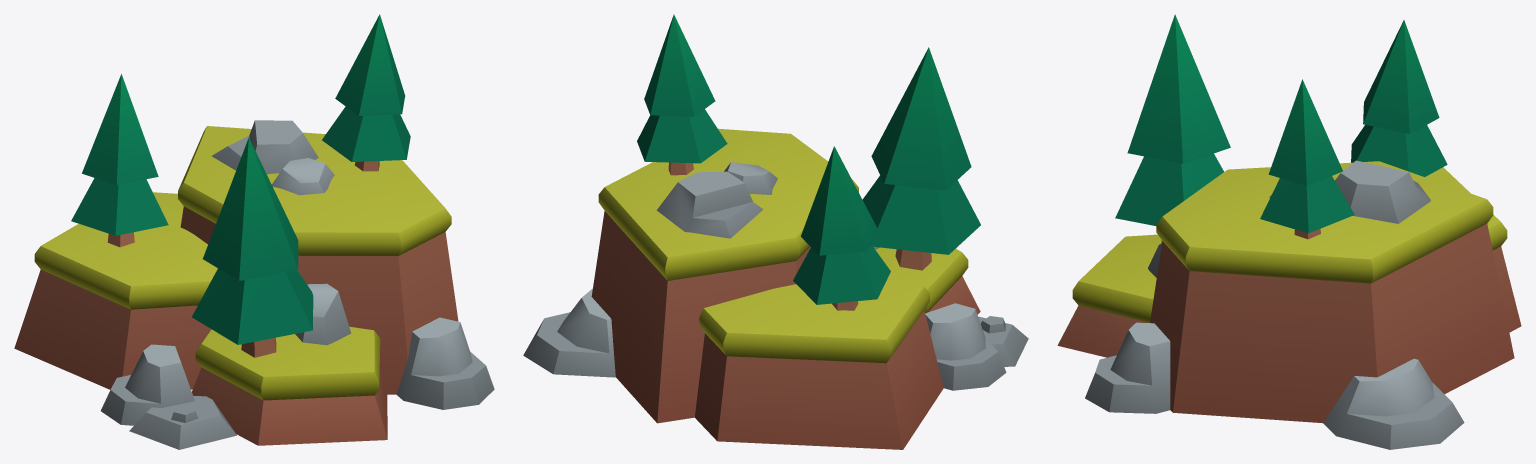
File: hills_A_trees.glb
3 renders of one model, left to right at view 1: azimuth 30°, elevation 25°; view 2: azimuth 150°, elevation 25°; view 3: azimuth 270°, elevation 25°, orthographic. The views are drawn at different scales.
Parts seen in each view (by area): view 1: hills_A_trees; view 2: hills_A_trees; view 3: hills_A_trees.
Boxes of the visible parts, box(x1,y1,x2,y2) form: hills_A_trees: box(14, 14, 494, 449); hills_A_trees: box(523, 14, 1028, 449); hills_A_trees: box(1057, 14, 1521, 449).
Bounding box in the file's own units: 1.76 × 1.33 × 1.74.
1 material, 1 textured.
